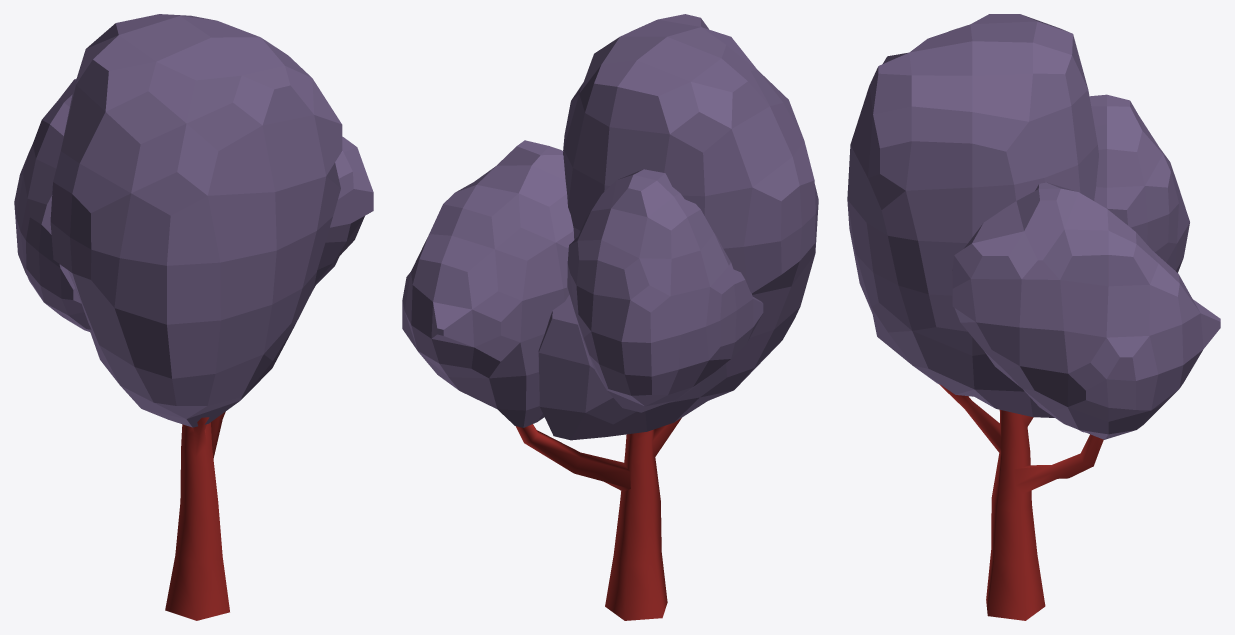
The model's file is TreeSample.fbx.
3 renders of one model, left to right at view 1: azimuth 30°, elevation 25°; view 2: azimuth 150°, elevation 25°; view 3: azimuth 270°, elevation 25°, orthographic. The views are drawn at different scales.
Parts seen in each view (by area): view 1: newtree10.004; view 2: newtree10.004; view 3: newtree10.004.
Boxes of the visible parts, box(x1,y1,x2,y2) form: newtree10.004: box(14, 14, 373, 620); newtree10.004: box(402, 14, 818, 620); newtree10.004: box(847, 14, 1220, 620).
Size of the model in its own units: 596 by 590 by 990.
